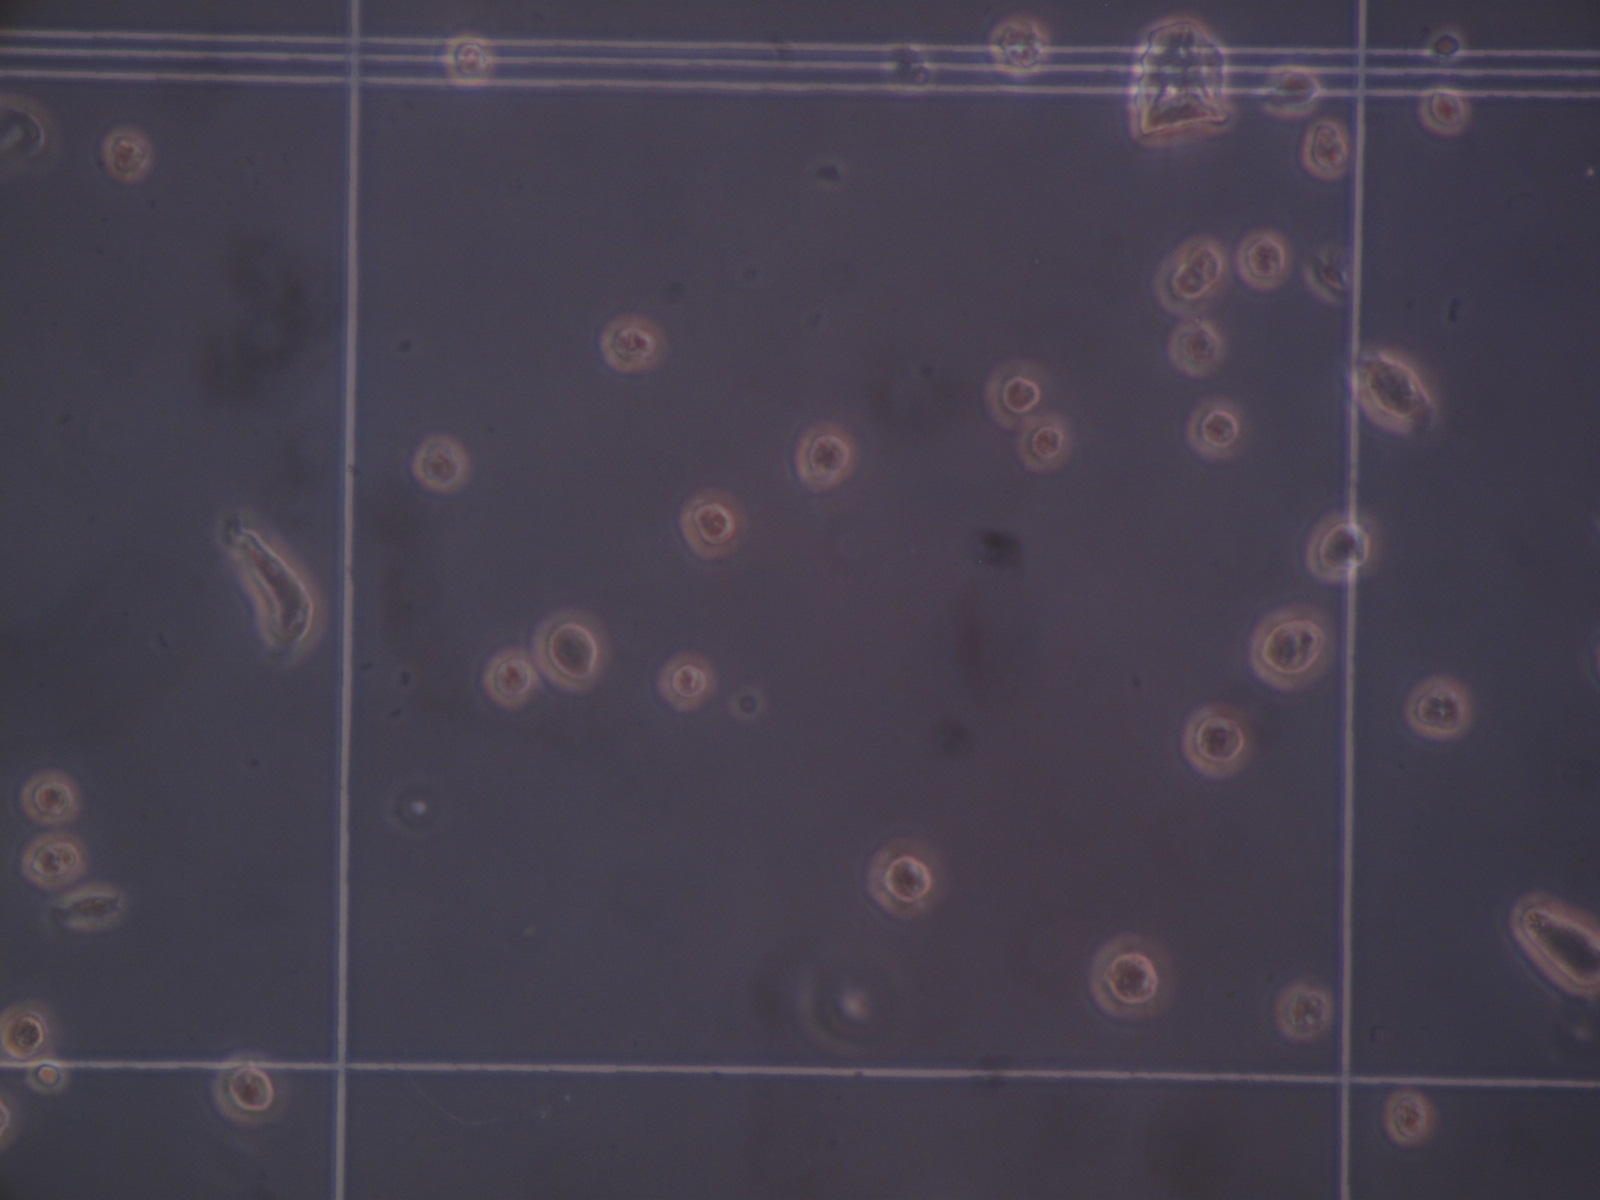hemo: (1508, 890, 1600, 1000), (1249, 603, 1335, 695), (1090, 932, 1175, 1018), (1348, 345, 1432, 434), (866, 838, 949, 920), (530, 608, 610, 692), (1182, 700, 1257, 782), (1154, 237, 1228, 316), (210, 1049, 290, 1123), (1306, 508, 1380, 582), (984, 359, 1054, 432), (678, 489, 746, 560), (792, 418, 858, 490), (986, 13, 1049, 78), (1403, 676, 1469, 739), (1188, 395, 1247, 461), (600, 316, 666, 376), (656, 650, 719, 712), (19, 834, 88, 890), (411, 436, 474, 494), (483, 645, 539, 710), (1233, 229, 1293, 290), (1259, 63, 1322, 118), (1015, 413, 1071, 474), (1, 1000, 55, 1061), (19, 771, 82, 823), (1275, 982, 1332, 1039), (1385, 1087, 1436, 1148), (1167, 321, 1225, 376), (1299, 118, 1351, 179), (443, 32, 496, 89), (100, 127, 156, 180), (1419, 82, 1471, 137), (25, 1060, 68, 1093), (1427, 28, 1466, 63)
